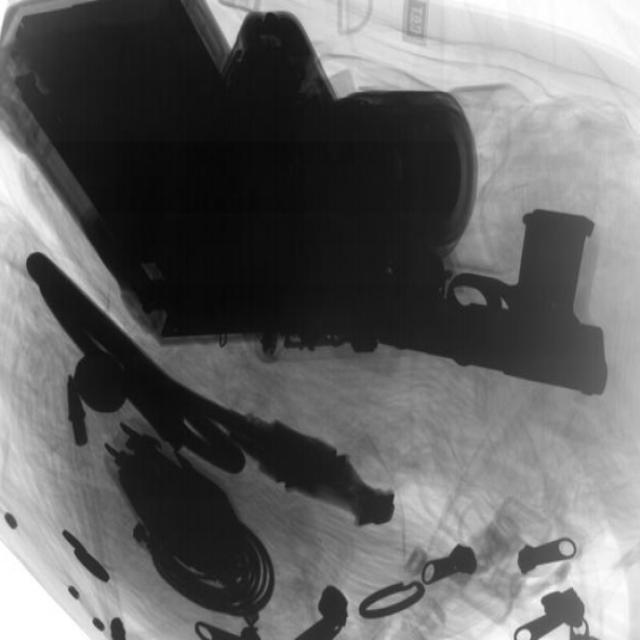GUN: (367, 206, 611, 405)
